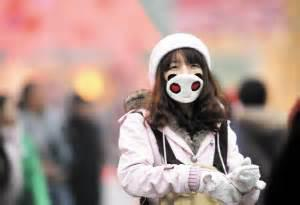WRONG: (163, 62, 206, 105)
